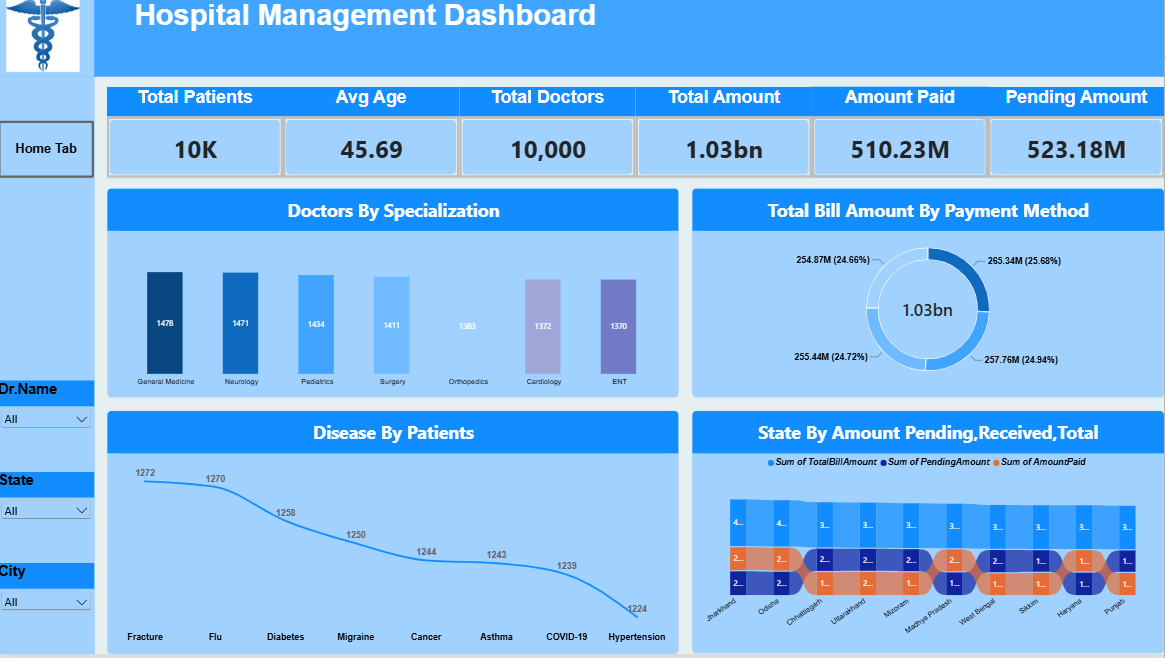

What the dashboard file says about the page in this screenshot:
{"tool":"powerbi","page":{"name":"Hospital_Management_Dashboard","canvas":[1920,1080],"ordinal":0},"visuals":[{"type":"cardVisual","title":"Total Patients","fields":{"Data":["Count(hospital hospital_management_10k_records.PatientID)"]},"box":[179.1,146.1,290,150.3],"z":0},{"type":"cardVisual","title":"Avg Age","fields":{"Data":["Avg(hospital hospital_management_10k_records.Age)"]},"box":[469.3,146.1,290,150.3],"z":1000},{"type":"cardVisual","title":"Total Doctors","fields":{"Data":["Count(hospital hospital_management_10k_records.DoctorID)"]},"box":[759.5,146.1,290,150.3],"z":2000},{"type":"cardVisual","title":"Amount Paid","fields":{"Data":["Sum(hospital hospital_management_10k_records.AmountPaid)"]},"box":[1340,146.1,290,150.3],"z":3000},{"type":"cardVisual","title":"Total Amount","fields":{"Data":["Sum(hospital hospital_management_10k_records.TotalBillAmount)"]},"box":[1049.7,146.1,290,150.3],"z":4000},{"type":"cardVisual","title":"Pending Amount","fields":{"Data":["Sum(hospital hospital_management_10k_records.PendingAmount)"]},"box":[1630.2,146.1,290,150.3],"z":5000},{"type":"shape","box":[0,0,1920.4,129.7],"z":6000},{"type":"shape","box":[0,129.7,158.5,950.9],"z":7000},{"type":"columnChart","title":"Doctors By Specialization  ","fields":{"Category":["hospital hospital_management_10k_records.Specialization"],"Series":["hospital hospital_management_10k_records.Specialization"],"Y":["Count(hospital hospital_management_10k_records.DoctorName)"]},"box":[179.1,312.9,942.7,345.8],"z":8000},{"type":"donutChart","title":"Total Bill Amount By Payment Method","fields":{"Category":["hospital hospital_management_10k_records.PaymentMode"],"Y":["Sum(hospital hospital_management_10k_records.TotalBillAmount)"]},"box":[1142.4,312.9,778,345.8],"z":9000},{"type":"lineChart","title":"Disease By Patients","fields":{"Category":["hospital hospital_management_10k_records.Disease"],"Y":["Count(hospital hospital_management_10k_records.PatientID)"]},"box":[179.1,679.2,942.7,401.4],"z":10000},{"type":"ribbonChart","title":"State By Amount Pending,Received,Total","fields":{"Category":["hospital hospital_management_10k_records.State"],"Y":["Sum(hospital hospital_management_10k_records.TotalBillAmount)","Sum(hospital hospital_management_10k_records.PendingAmount)","Sum(hospital hospital_management_10k_records.AmountPaid)"]},"box":[1142,679,778,401],"z":11000},{"type":"slicer","title":"State","fields":{"Values":["hospital hospital_management_10k_records.State"]},"box":[0,780.1,158.5,150],"z":11002},{"type":"slicer","title":"City","fields":{"Values":["hospital hospital_management_10k_records.City"]},"box":[0,930.4,158.5,150],"z":11003},{"type":"slicer","title":"Dr.Name","fields":{"Values":["hospital hospital_management_10k_records.DoctorName"]},"box":[0,629.8,158.5,150.3],"z":11004},{"type":"textbox","box":[158.5,0,1761.9,129.7],"z":11005},{"type":"image","box":[0,0,148.2,121.4],"z":11008},{"type":"actionButton","box":[0,201.7,158.5,94.7],"z":11009}]}

Visuals, with their boxes in screenshot pixels (x1, y1, x2, y2), scaled from the page's 1920x1080 canvas onto the 1166x658 screenshot:
"Total Patients" cardVisual: bbox=[109, 89, 285, 181]
"Avg Age" cardVisual: bbox=[285, 89, 461, 181]
"Total Doctors" cardVisual: bbox=[461, 89, 637, 181]
"Amount Paid" cardVisual: bbox=[814, 89, 990, 181]
"Total Amount" cardVisual: bbox=[637, 89, 814, 181]
"Pending Amount" cardVisual: bbox=[990, 89, 1165, 181]
shape: bbox=[0, 0, 1165, 79]
shape: bbox=[0, 79, 96, 657]
"Doctors By Specialization  " columnChart: bbox=[109, 191, 681, 401]
"Total Bill Amount By Payment Method" donutChart: bbox=[694, 191, 1165, 401]
"Disease By Patients" lineChart: bbox=[109, 414, 681, 657]
"State By Amount Pending,Received,Total" ribbonChart: bbox=[694, 414, 1165, 657]
"State" slicer: bbox=[0, 475, 96, 567]
"City" slicer: bbox=[0, 567, 96, 657]
"Dr.Name" slicer: bbox=[0, 384, 96, 475]
textbox: bbox=[96, 0, 1165, 79]
image: bbox=[0, 0, 90, 74]
actionButton: bbox=[0, 123, 96, 181]
